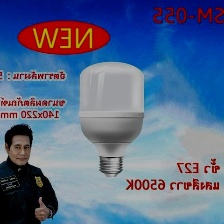light_bulb: (74, 58, 147, 180)
